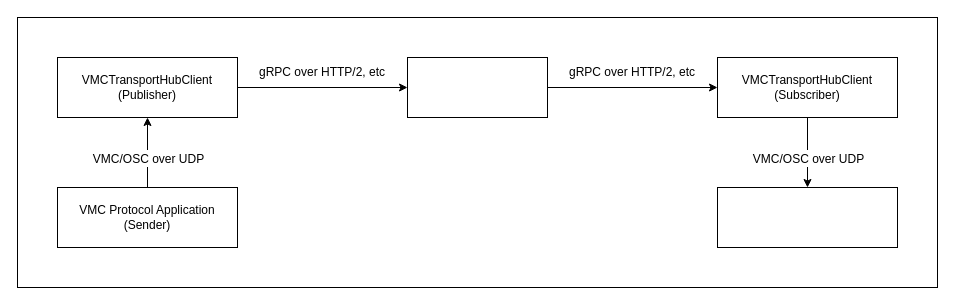
The diagram is 955 pixels wide and 305 high, and some of its shapes have lost their labels. The box of each missing label's shape, as (x1, y1, x2, y2) in pixels:
Server: (406, 56, 548, 118)
VMC Protocol Application (Receiver): (716, 186, 898, 248)
